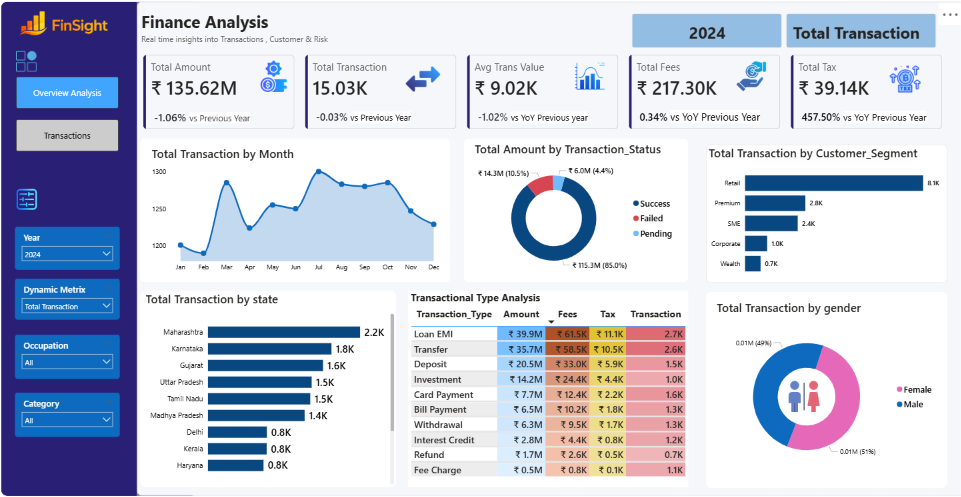

Layout of this report page (visuals, bound fields, positions):
{"tool":"powerbi","page":{"name":"Overview Analysis","canvas":[1800,950],"ordinal":0},"visuals":[{"type":"shape","box":[875.2,270.4,415.2,266.2],"z":0},{"type":"shape","box":[17,17,364.1,916],"z":1000},{"type":"shape","box":[613.3,675,417.4,274.7],"z":2000},{"type":"shape","box":[273.5,262.7,587.7,268.1],"z":3000},{"type":"shape","box":[268.3,17,1531,915.6],"z":4000},{"type":"image","box":[44.7,17,181,80.9],"z":5000},{"type":"cardVisual","fields":{"Data":["Measures (2).Dashboard Title"]},"box":[259.8,20.6,434.4,87.3],"z":6000},{"type":"cardVisual","fields":{"Data":["Measures (2).Total Amount","Measures (2).Total Transaction","Measures (2).Avg Trans Value","Measures (2).Total Fees","Measures (2).Total Tax"]},"box":[274.7,108.6,1494.8,149.1],"z":7000},{"type":"slicer","fields":{"Values":["Calendar_Table.Year"]},"box":[41.8,434,194.3,79.9],"z":8000},{"type":"image","box":[492.1,125.3,58.1,58.1],"z":9000},{"type":"image","box":[749.5,125.6,100.1,68.1],"z":10000},{"type":"image","box":[1364.9,125.6,83,57.5],"z":11000},{"type":"image","box":[1066.8,125.6,80.9,57.5],"z":12000},{"type":"image","box":[1646,125.6,93.7,68.1],"z":13000},{"type":"slicer","fields":{"Values":["Dynamic Metrix.Dynamic Metrix"]},"box":[41.8,530.2,194.3,76.3],"z":14000},{"type":"shape","box":[1322.3,281.1,447.2,255.5],"z":15000},{"type":"barChart","fields":{"Y":["Measures (2).Total Transaction"],"Category":["customers.customer_segment"]},"box":[1322.3,281.1,447.2,255.5],"z":16000},{"type":"shape","box":[274.7,551.5,474.8,364.1],"z":17000},{"type":"barChart","fields":{"Y":["Measures (2).Total Transaction"],"Category":["customers.state"]},"box":[278.9,551.5,470.6,364.1],"z":18000},{"type":"shape","box":[770.8,551.5,519.6,364.1],"z":19000},{"type":"tableEx","title":"Transactional Type Analysis","fields":{"Values":["finance_transactions.transaction_type","Measures (2).Total Amount","Measures (2).Total Fees","Measures (2).Total Tax","Measures (2).Total Transaction"]},"box":[770.8,551.5,519.6,364.1],"z":20000},{"type":"shape","box":[1322.3,553.6,447.2,364.1],"z":21000},{"type":"donutChart","fields":{"Y":["Measures (2).Total Transaction"],"Category":["customers.gender"]},"box":[1337.2,568.5,417.4,330],"z":22000},{"type":"image","box":[1448,715.5,115,66],"z":23000},{"type":"slicer","fields":{"Values":["customers.occupation"]},"box":[41.8,633.7,194.3,81.7],"z":24000},{"type":"slicer","fields":{"Values":["finance_transactions.merchant_category"]},"box":[41.8,740.8,194.3,81.7],"z":25000},{"type":"pageNavigator","box":[44.7,155.4,190.2,139.8],"z":26000},{"type":"image","box":[45.4,98.1,38.1,58.1],"z":27000},{"type":"image","box":[41.8,357.7,43.6,50.8],"z":28000},{"type":"shape","box":[274.7,270.4,574.9,266.2],"z":29000},{"type":"areaChart","fields":{"Y":["Measures (2).Total Transaction"],"Category":["Calendar_Table.Month"]},"box":[291.7,283.2,549.4,242.7],"z":30000},{"type":"cardVisual","fields":{"Data":["Measures (2).Selected Year","Min(Dynamic Metrix.Dynamic Title)"]},"box":[1179.7,34.1,574.9,74.5],"z":31000},{"type":"shape","box":[875.2,270.4,415.2,266.2],"z":32000},{"type":"donutChart","fields":{"Y":["Measures (2).Total Amount"],"Category":["finance_transactions.transaction_status"]},"box":[890.1,274.7,385.4,257.7],"z":33000}]}

Visuals, with their boxes on the page's 1800x950 design canvas (x1, y1, x2, y2). These are canvas units, not pixel positions in the 961x497 screenshot, which may show the page scaled, cropped or inside an application window:
shape: rect(875, 270, 1290, 537)
shape: rect(17, 17, 381, 933)
shape: rect(613, 675, 1031, 950)
shape: rect(274, 263, 861, 531)
shape: rect(268, 17, 1799, 933)
image: rect(45, 17, 226, 98)
cardVisual - Measures (2).Dashboard Title: rect(260, 21, 694, 108)
cardVisual - Measures (2).Total Amount x Measures (2).Total Transaction: rect(275, 109, 1770, 258)
slicer - Calendar_Table.Year: rect(42, 434, 236, 514)
image: rect(492, 125, 550, 183)
image: rect(750, 126, 850, 194)
image: rect(1365, 126, 1448, 183)
image: rect(1067, 126, 1148, 183)
image: rect(1646, 126, 1740, 194)
slicer - Dynamic Metrix.Dynamic Metrix: rect(42, 530, 236, 606)
shape: rect(1322, 281, 1770, 537)
barChart - Measures (2).Total Transaction x customers.customer_segment: rect(1322, 281, 1770, 537)
shape: rect(275, 552, 750, 916)
barChart - Measures (2).Total Transaction x customers.state: rect(279, 552, 750, 916)
shape: rect(771, 552, 1290, 916)
"Transactional Type Analysis" tableEx: rect(771, 552, 1290, 916)
shape: rect(1322, 554, 1770, 918)
donutChart - Measures (2).Total Transaction x customers.gender: rect(1337, 568, 1755, 898)
image: rect(1448, 716, 1563, 782)
slicer - customers.occupation: rect(42, 634, 236, 715)
slicer - finance_transactions.merchant_category: rect(42, 741, 236, 822)
pageNavigator: rect(45, 155, 235, 295)
image: rect(45, 98, 84, 156)
image: rect(42, 358, 85, 408)
shape: rect(275, 270, 850, 537)
areaChart - Measures (2).Total Transaction x Calendar_Table.Month: rect(292, 283, 841, 526)
cardVisual - Measures (2).Selected Year x Min(Dynamic Metrix.Dynamic Title): rect(1180, 34, 1755, 109)
shape: rect(875, 270, 1290, 537)
donutChart - Measures (2).Total Amount x finance_transactions.transaction_status: rect(890, 275, 1276, 532)
